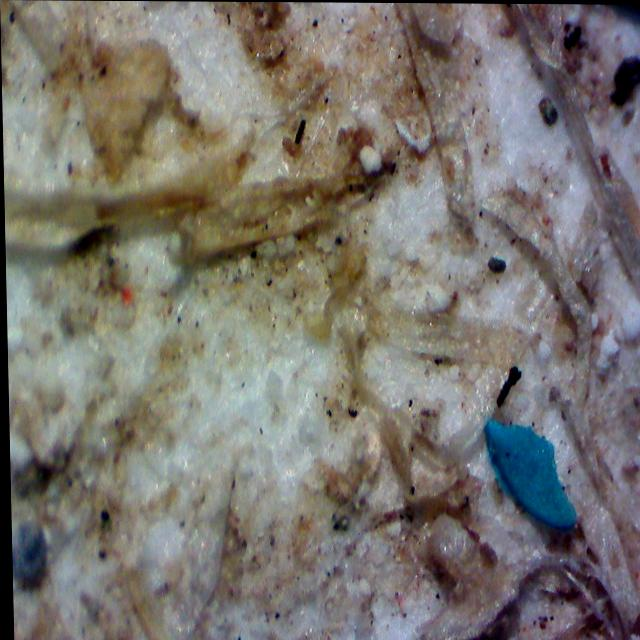microplastic: (485, 421, 575, 533)
